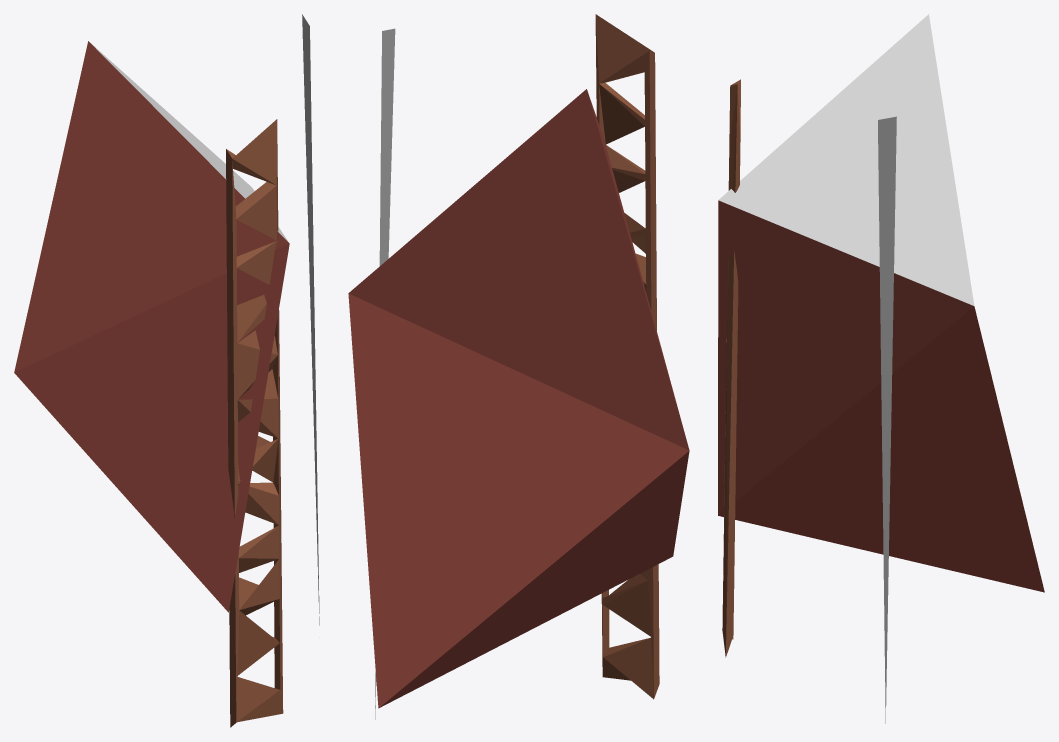
The model's file is Silo.lod3.glb.
The picture shows the model from 3 angles, left to right: view 1: azimuth 30°, elevation 25°; view 2: azimuth 150°, elevation 25°; view 3: azimuth 270°, elevation 25°; orthographic projection. The views are drawn at different scales.
Parts seen in each view (by area): view 1: Silo; view 2: Silo; view 3: Silo.
Boxes of the visible parts, x1=… form: Silo: x1=14, y1=14, x2=319, y2=727; Silo: x1=348, y1=14, x2=689, y2=719; Silo: x1=718, y1=14, x2=1044, y2=723.
Bounding box in the file's own units: 3.7 × 7.65 × 3.69.
